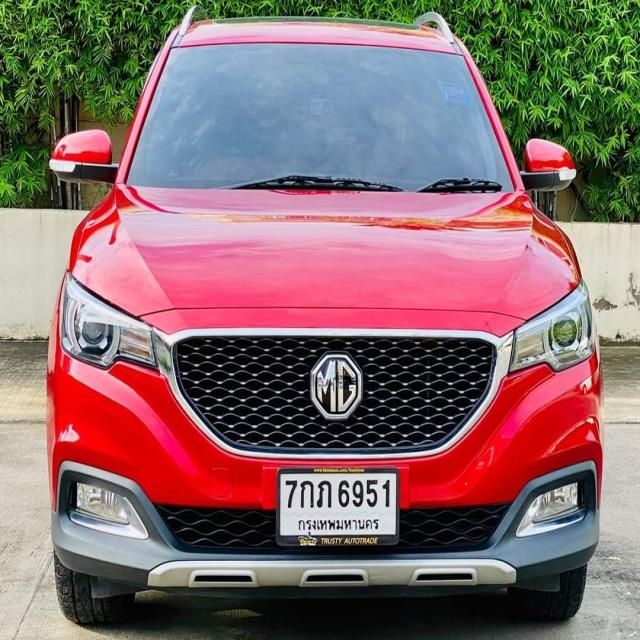license_plate: (276, 466, 401, 548)
